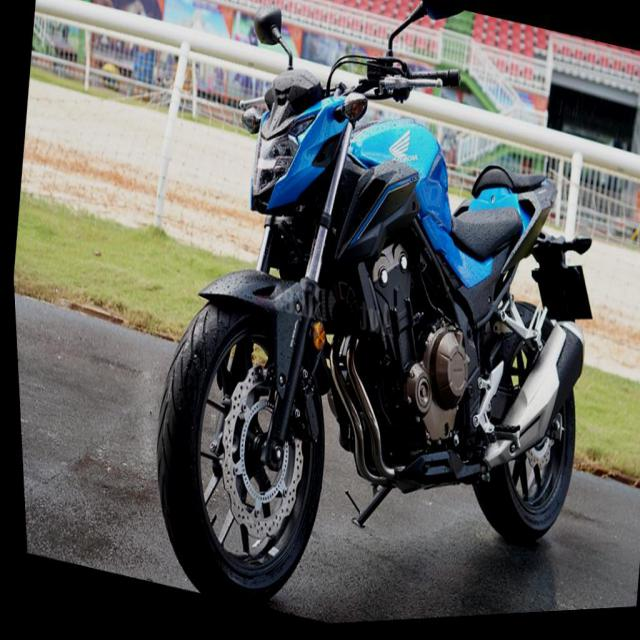CB500F: (116, 0, 630, 635)
